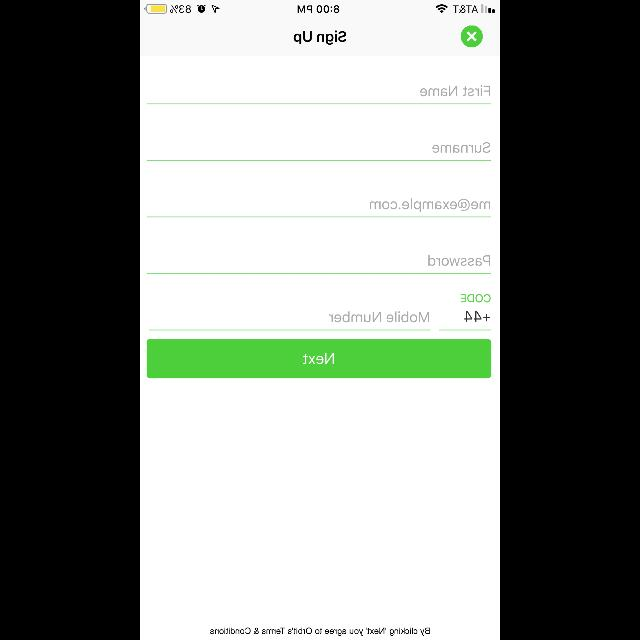icon: (460, 26, 482, 48)
input: (147, 254, 491, 274), (147, 198, 491, 218), (147, 142, 491, 162), (147, 85, 491, 105), (148, 312, 430, 331), (439, 311, 491, 331)
text: (210, 628, 430, 636), (370, 198, 490, 212), (329, 312, 429, 322), (420, 85, 490, 96), (294, 31, 346, 45), (432, 142, 490, 154), (428, 256, 490, 266), (464, 310, 490, 322), (461, 294, 491, 302)
textbutton: (147, 339, 491, 378)
uppertaskbar: (140, 0, 500, 14)
